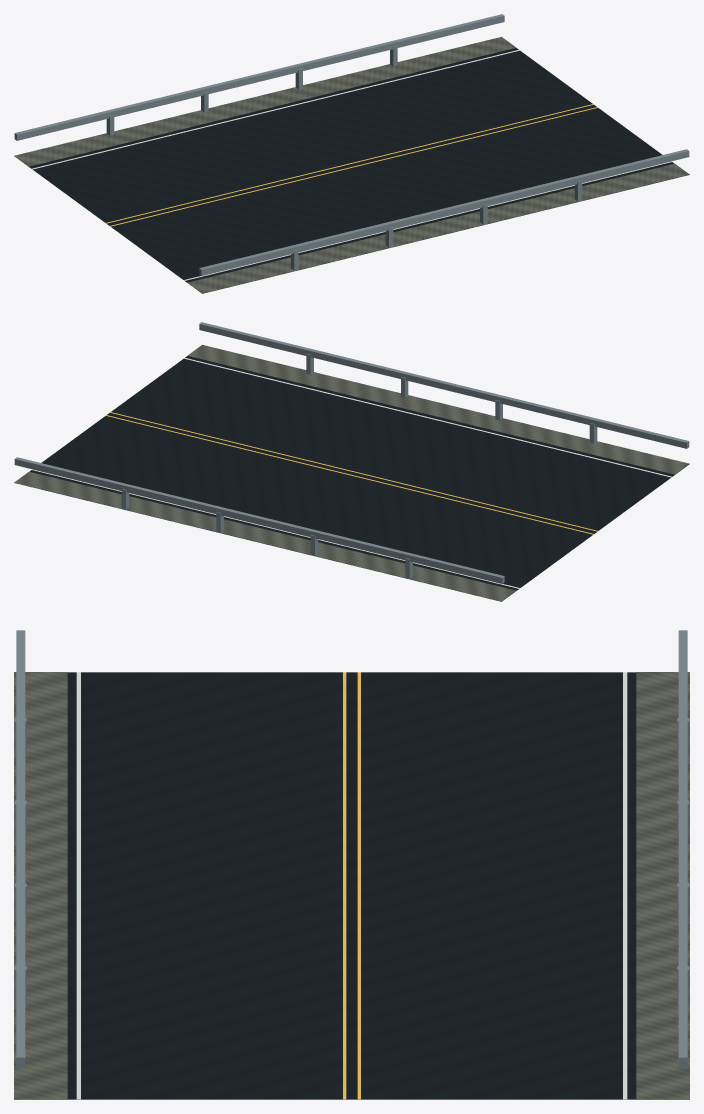
Rendered from road_highway_regional_16m_guardrail_LOD0.glb.
3 views of the same model, one above another, from view 1: azimuth 30°, elevation 25°; view 2: azimuth 150°, elevation 25°; view 3: azimuth 270°, elevation 25° (orthographic). The views are drawn at different scales.
Parts seen in each view (by area): view 1: road_highway_regional_16m_guardrail__surface, road_highway_regional_16m_guardrail__shoulders, road_highway_regional_16m_guardrail__guardrail, road_highway_regional_16m_guardrail__markings; view 2: road_highway_regional_16m_guardrail__surface, road_highway_regional_16m_guardrail__shoulders, road_highway_regional_16m_guardrail__guardrail, road_highway_regional_16m_guardrail__markings; view 3: road_highway_regional_16m_guardrail__surface, road_highway_regional_16m_guardrail__shoulders, road_highway_regional_16m_guardrail__guardrail, road_highway_regional_16m_guardrail__markings.
Boxes of the visible parts, x1,y1,x2,y2 form: road_highway_regional_16m_guardrail__surface: (14, 48, 689, 293); road_highway_regional_16m_guardrail__shoulders: (14, 37, 689, 293); road_highway_regional_16m_guardrail__guardrail: (14, 14, 689, 275); road_highway_regional_16m_guardrail__markings: (32, 50, 671, 280); road_highway_regional_16m_guardrail__surface: (14, 356, 689, 601); road_highway_regional_16m_guardrail__shoulders: (14, 345, 689, 601); road_highway_regional_16m_guardrail__guardrail: (14, 322, 689, 583); road_highway_regional_16m_guardrail__markings: (32, 358, 671, 588); road_highway_regional_16m_guardrail__surface: (14, 672, 689, 1099); road_highway_regional_16m_guardrail__shoulders: (14, 672, 689, 1098); road_highway_regional_16m_guardrail__guardrail: (14, 630, 689, 1068); road_highway_regional_16m_guardrail__markings: (76, 672, 627, 1099).
Size of the model in its own units: 16 by 0.735 by 10.7.
Materials: 5 (2 with a texture image).
